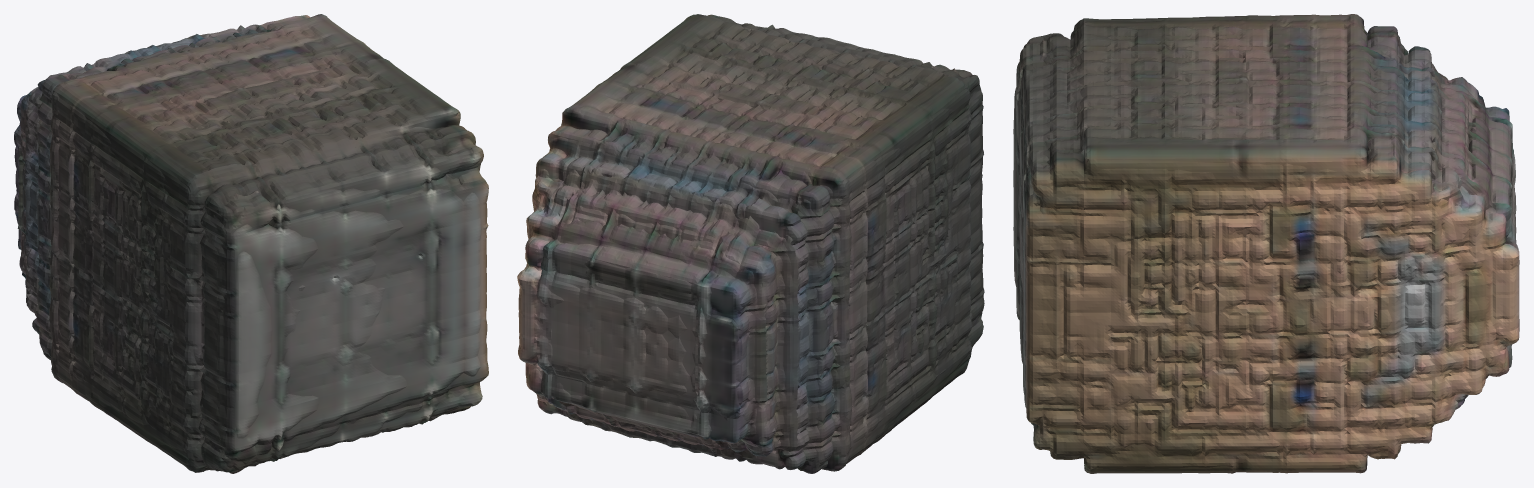
The picture shows the model from 3 angles, left to right: view 1: azimuth 30°, elevation 25°; view 2: azimuth 150°, elevation 25°; view 3: azimuth 270°, elevation 25°; orthographic projection. The views are drawn at different scales.
Parts seen in each view (by area): view 1: world; view 2: world; view 3: world.
Boxes of the visible parts, x1,y1,x2,y2 form: world: (14,14,488,473); world: (517,14,984,473); world: (1013,14,1519,473).
Size of the model in its own units: 0.7296 by 0.7281 by 1.02.
